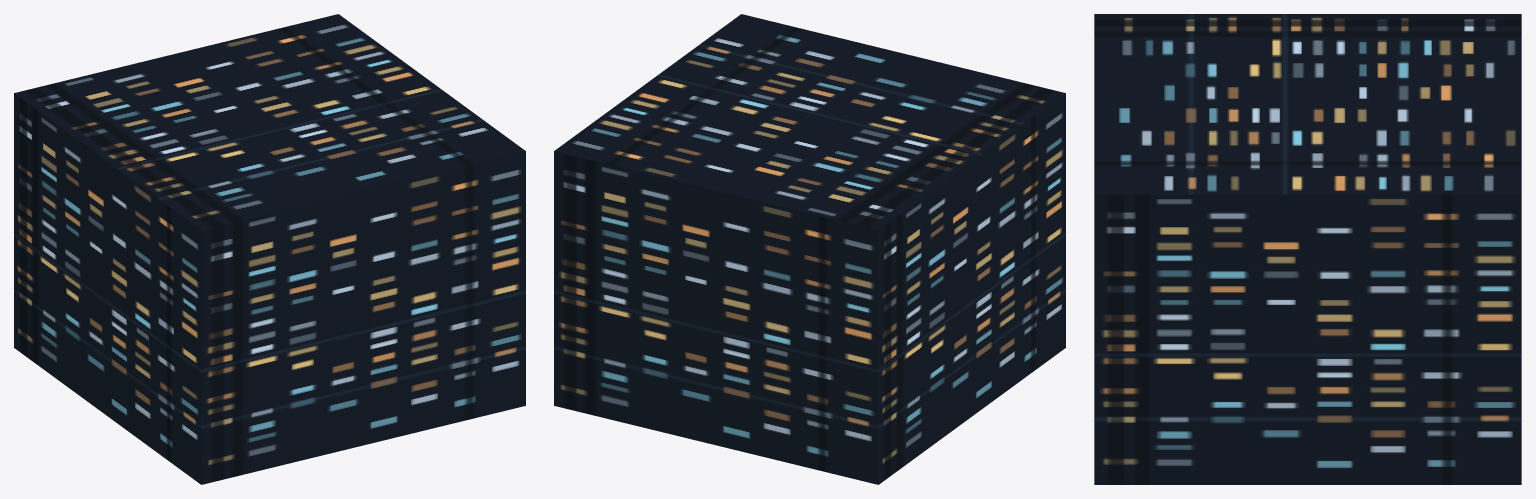
The model's file is building-block.glb.
3 views of the same model, side by side, from view 1: azimuth 30°, elevation 25°; view 2: azimuth 150°, elevation 25°; view 3: azimuth 270°, elevation 25° (orthographic). The views are drawn at different scales.
Visible parts, largest first — view 1: building; view 2: building; view 3: building.
Part boxes in pixels (x1,y1,x2,y2): building: [14, 14, 525, 484]; building: [554, 14, 1065, 484]; building: [1094, 14, 1521, 484].
Bounding box in the file's own units: 8 × 6 × 8.
Materials: 1 (1 with a texture image).
